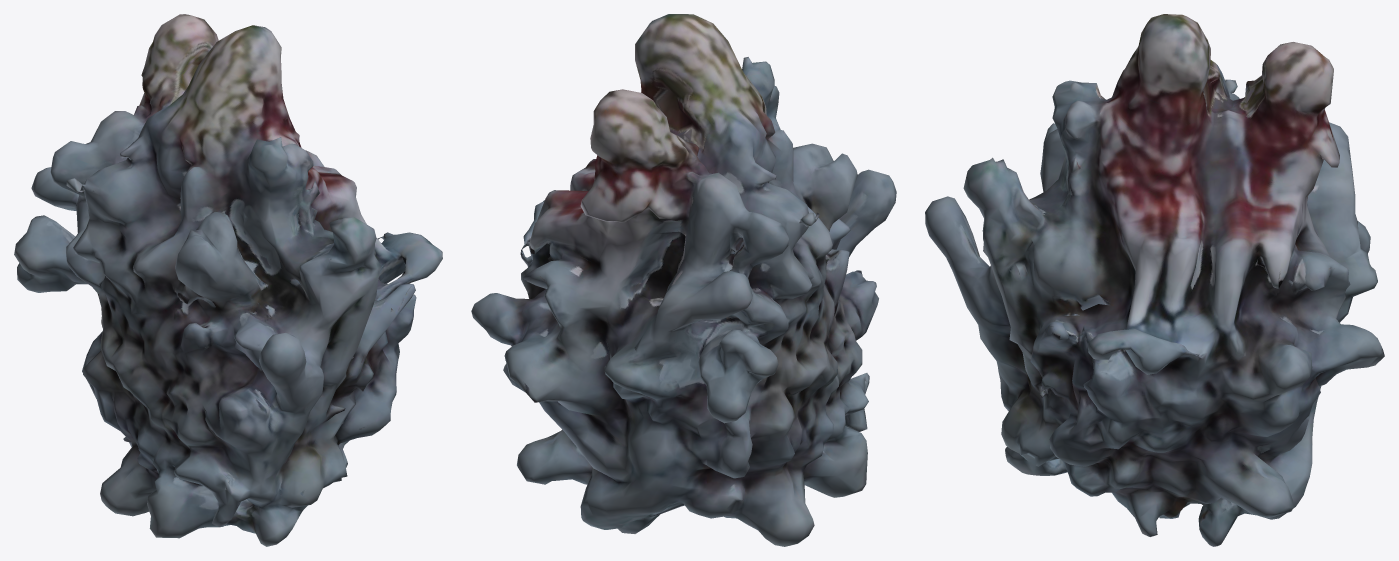
The model's file is b2365476ea83_three_woman_stuck_i.fbx.
3 renders of one model, left to right at view 1: azimuth 30°, elevation 25°; view 2: azimuth 150°, elevation 25°; view 3: azimuth 270°, elevation 25°, orthographic. The views are drawn at different scales.
Parts seen in each view (by area): view 1: mesh; view 2: mesh; view 3: mesh.
Part boxes in pixels (x1,y1,x2,y2): mesh: [14, 14, 442, 546]; mesh: [471, 14, 896, 546]; mesh: [925, 14, 1384, 546].
Bounding box in the file's own units: 69.06 × 100 × 81.33.
